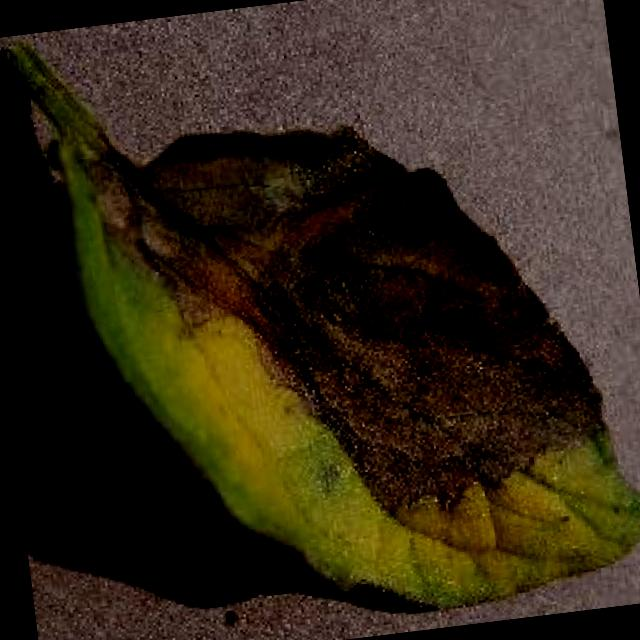leaf blight: (0, 37, 640, 612)
